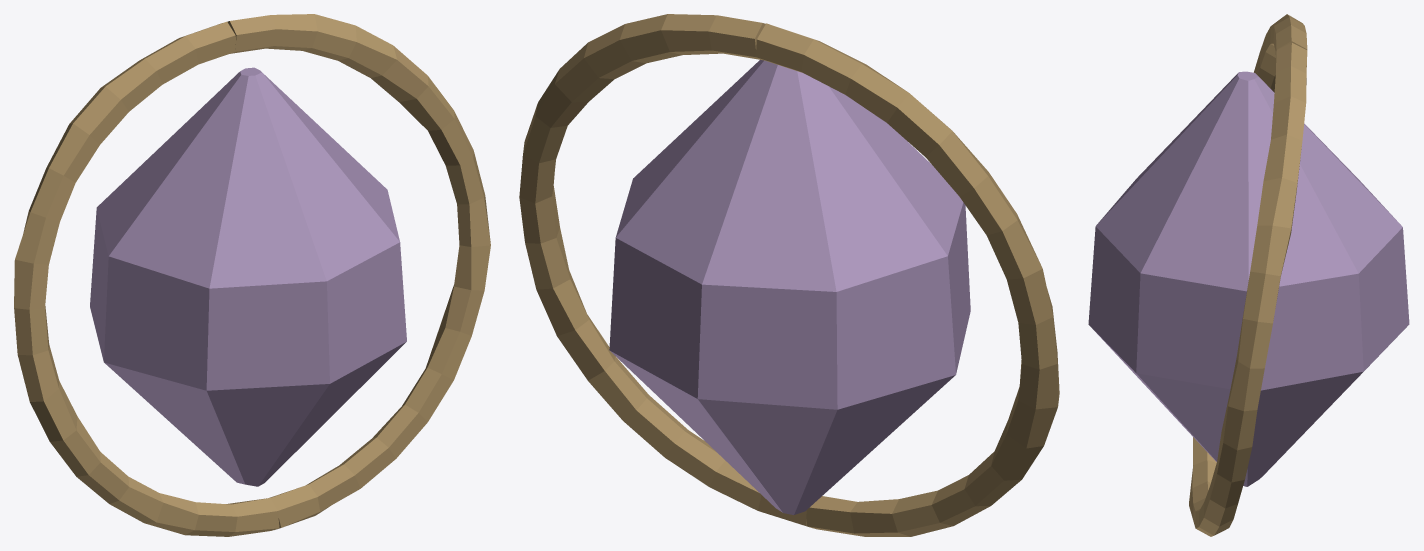
The model's file is beacon3.glb.
3 renders of one model, left to right at view 1: azimuth 30°, elevation 25°; view 2: azimuth 150°, elevation 25°; view 3: azimuth 270°, elevation 25°, orthographic. The views are drawn at different scales.
Parts seen in each view (by area): view 1: beacon3; view 2: beacon3; view 3: beacon3.
Part boxes in pixels (x1=…): beacon3: x1=14, y1=14, x2=490, y2=536; beacon3: x1=519, y1=14, x2=1059, y2=536; beacon3: x1=1088, y1=14, x2=1409, y2=536.
Bounding box in the file's own units: 0.5392 × 0.5229 × 0.323.
